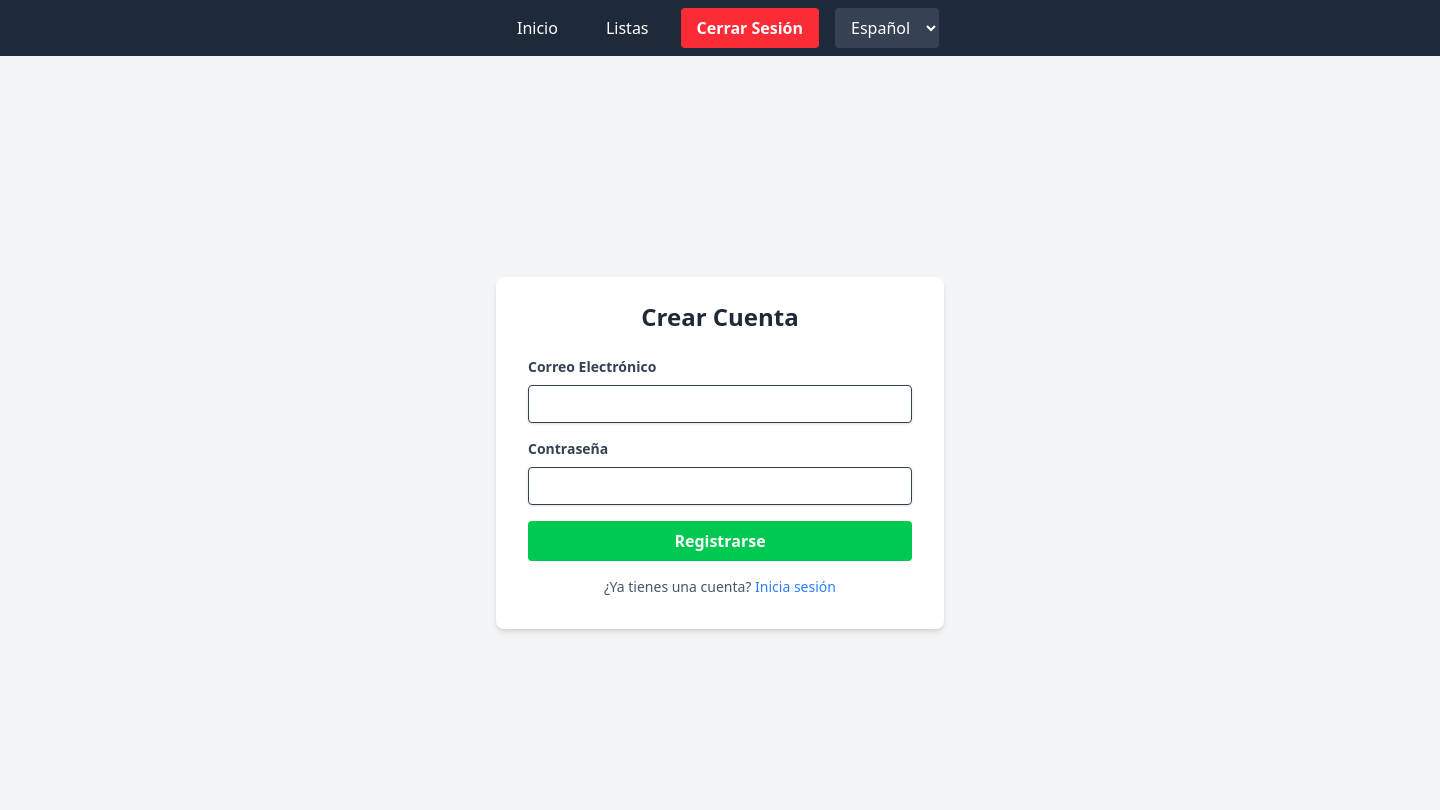
Test: Páginas con login renderizan correctamente › Debería navegar a la página de listas al hacer clic en el botón
// Buscamos y hacemos clic en el botón de Listas
Click the link "Listas": x=627, y=28 606,17 -> 648,39
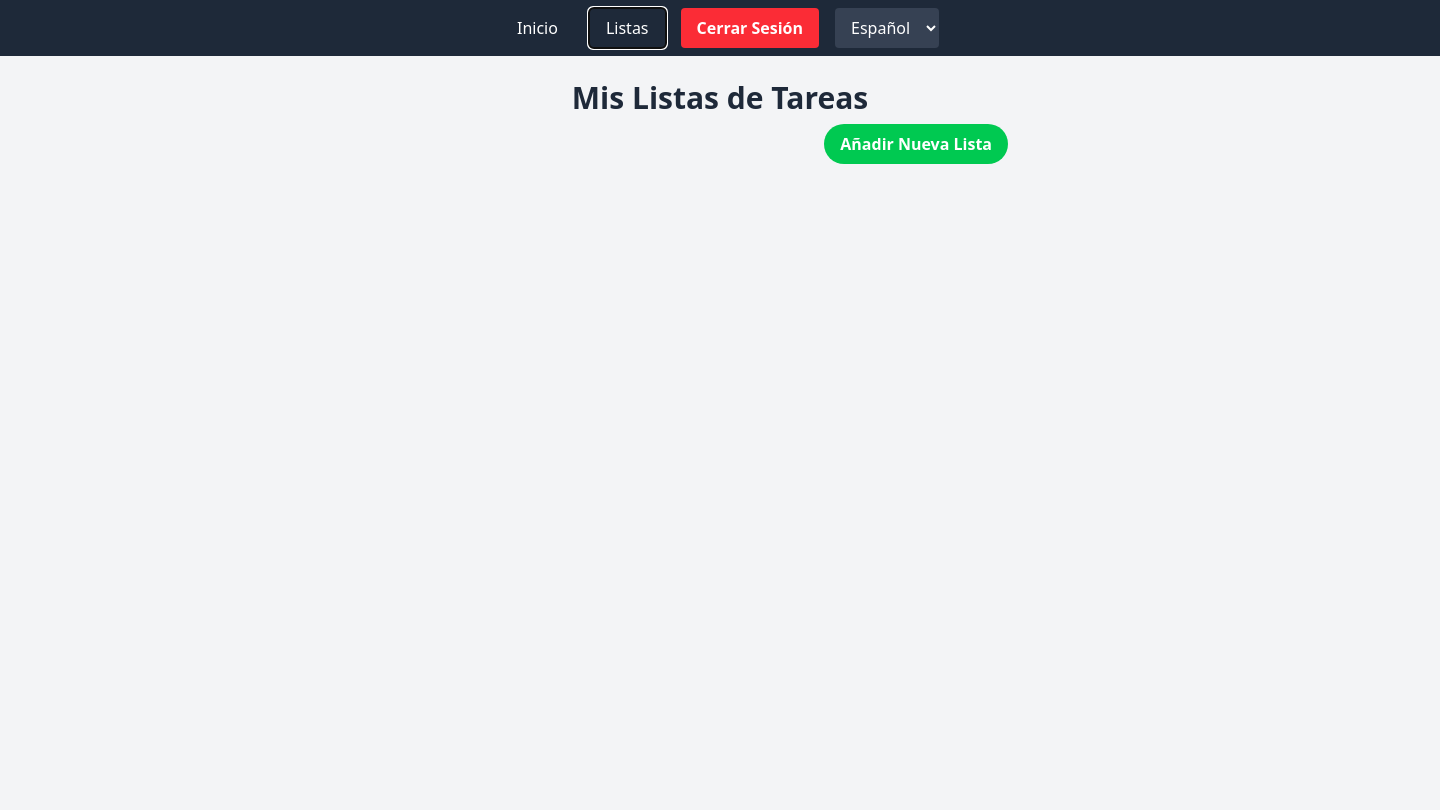
Check: the heading "Mis Listas de Tareas" is shown, box 572,77 -> 868,118
